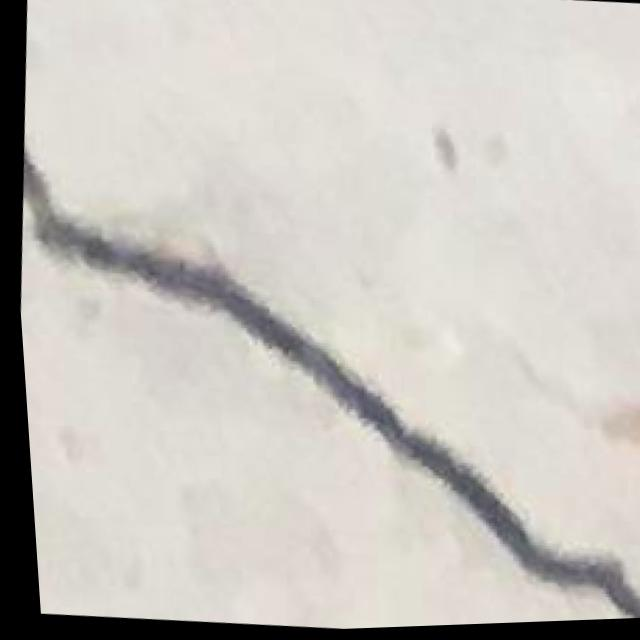Crack: (8, 131, 640, 640)
